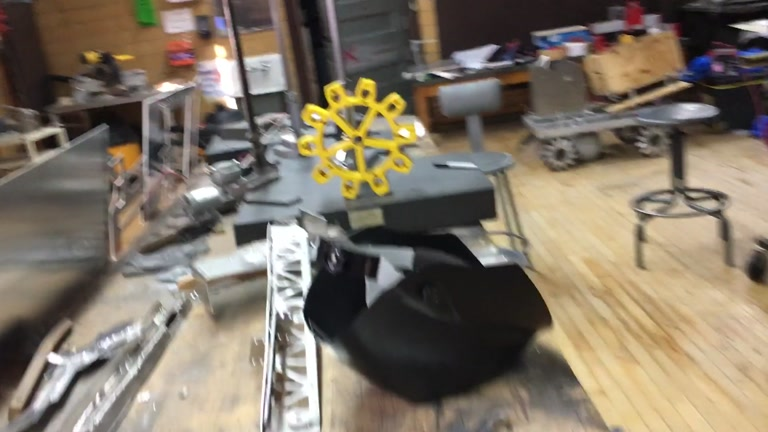gear: (298, 76, 418, 200)
